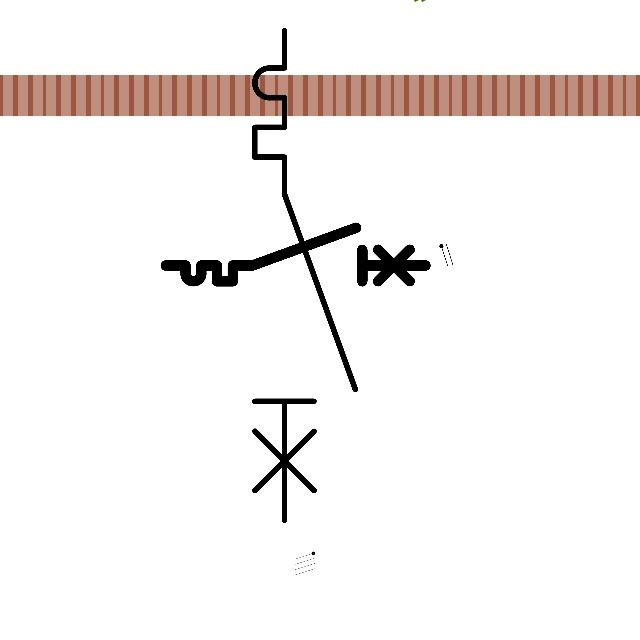interruptor_termomagnetico: (242, 18, 368, 533), (159, 221, 432, 288)
